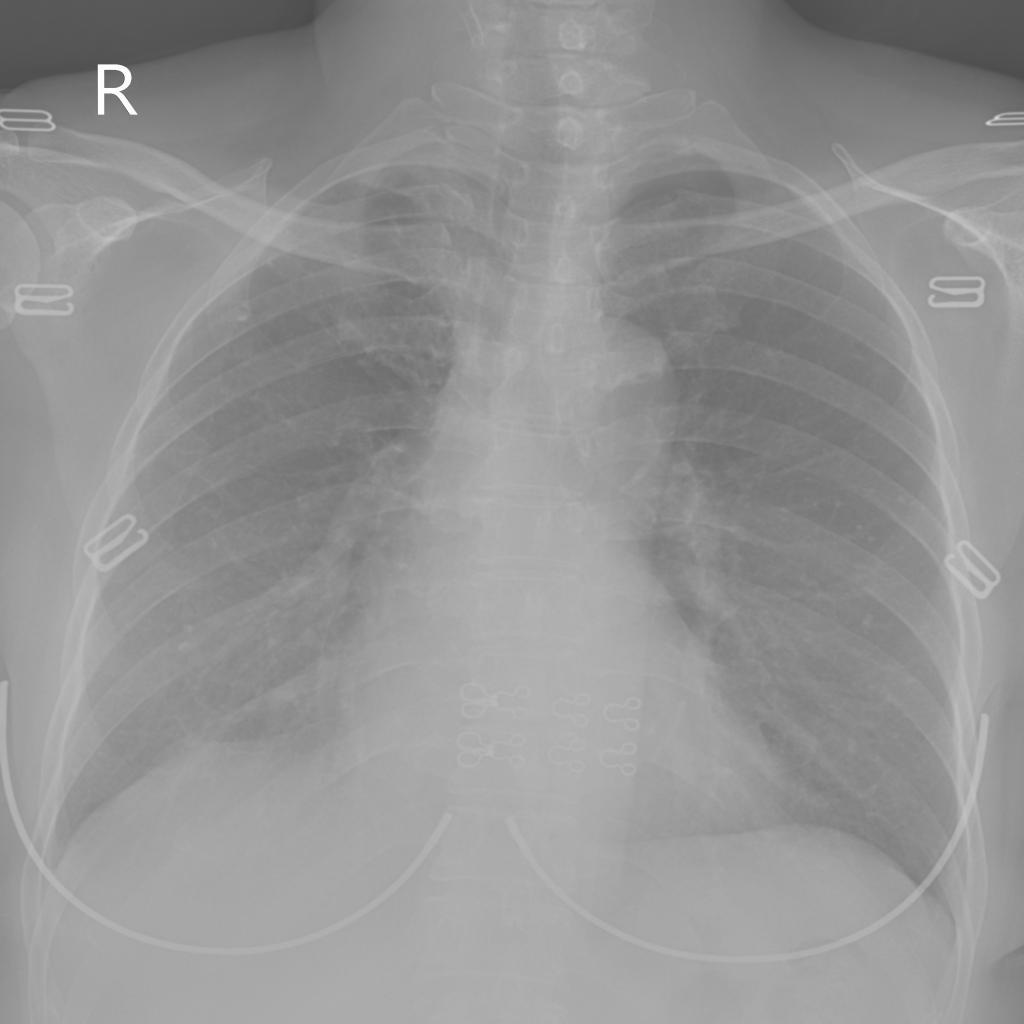Nodule: (167, 622, 198, 654), (897, 495, 930, 511), (860, 613, 875, 627)
